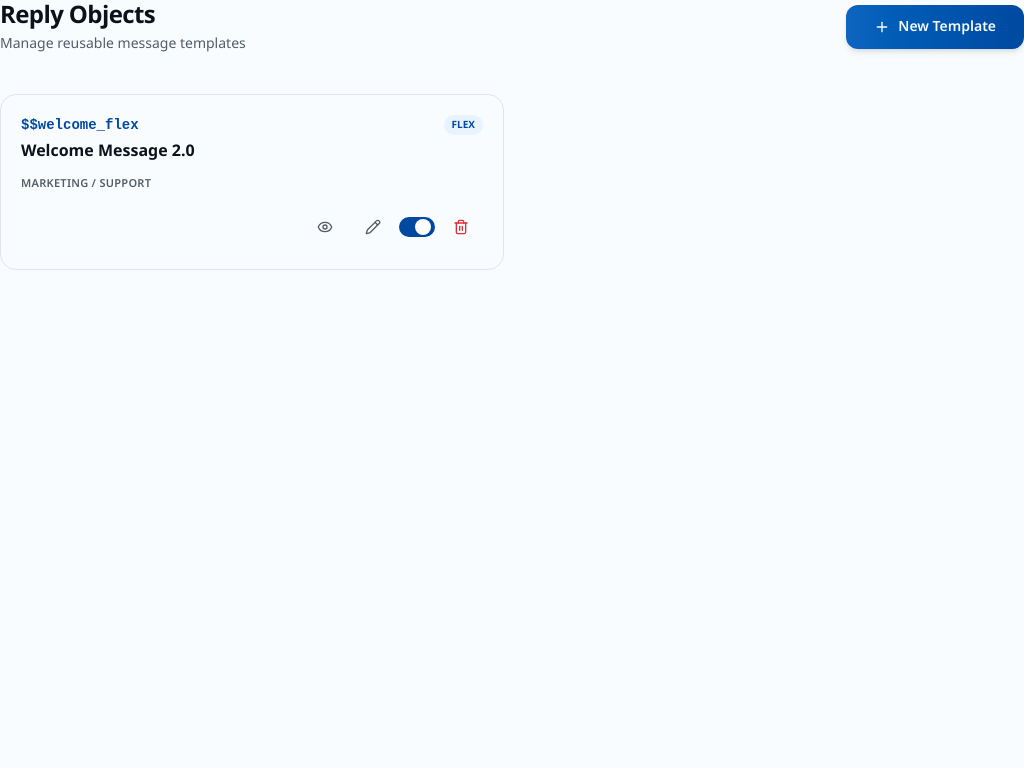
Test: ReplyObjectsClient กริด JSK › ลบแล้ว reload ลิสต์
Check: the text "$$welcome_flex" is shown, box top-left (21, 117), bottom-right (139, 133)
Click the button named "ลบ welcome_flex" at (461, 227), box top-left (439, 205), bottom-right (483, 249)
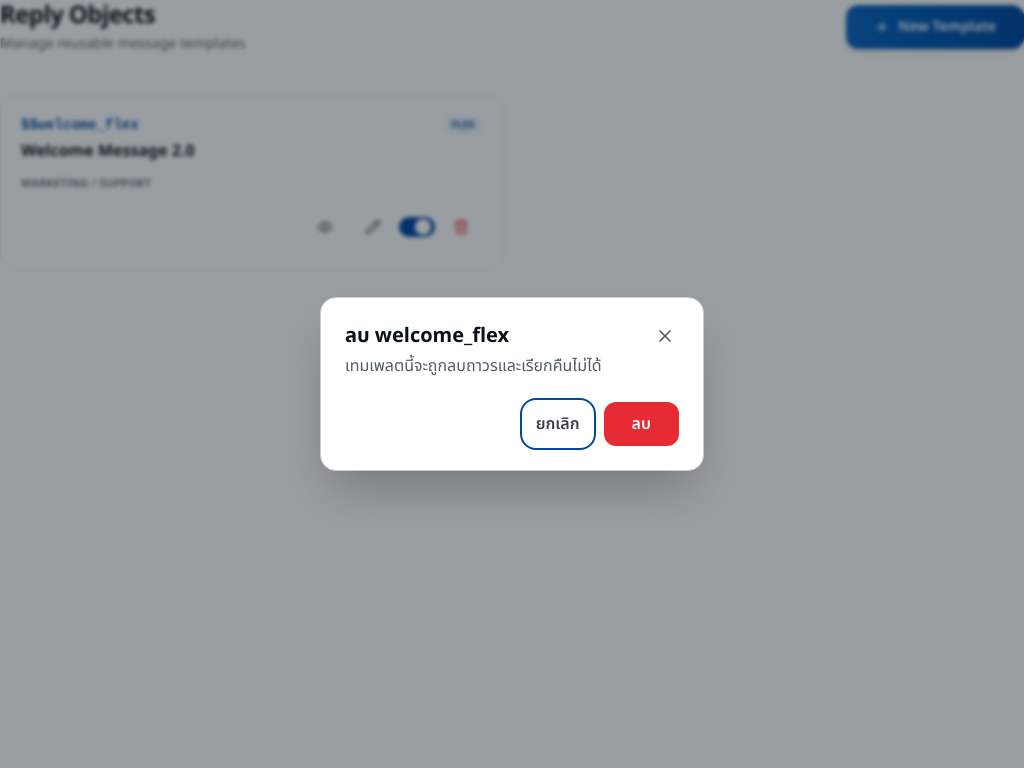
Check: the button "ลบ" is shown
Click the button "ลบ" at (641, 424), box top-left (604, 402), bottom-right (679, 446)
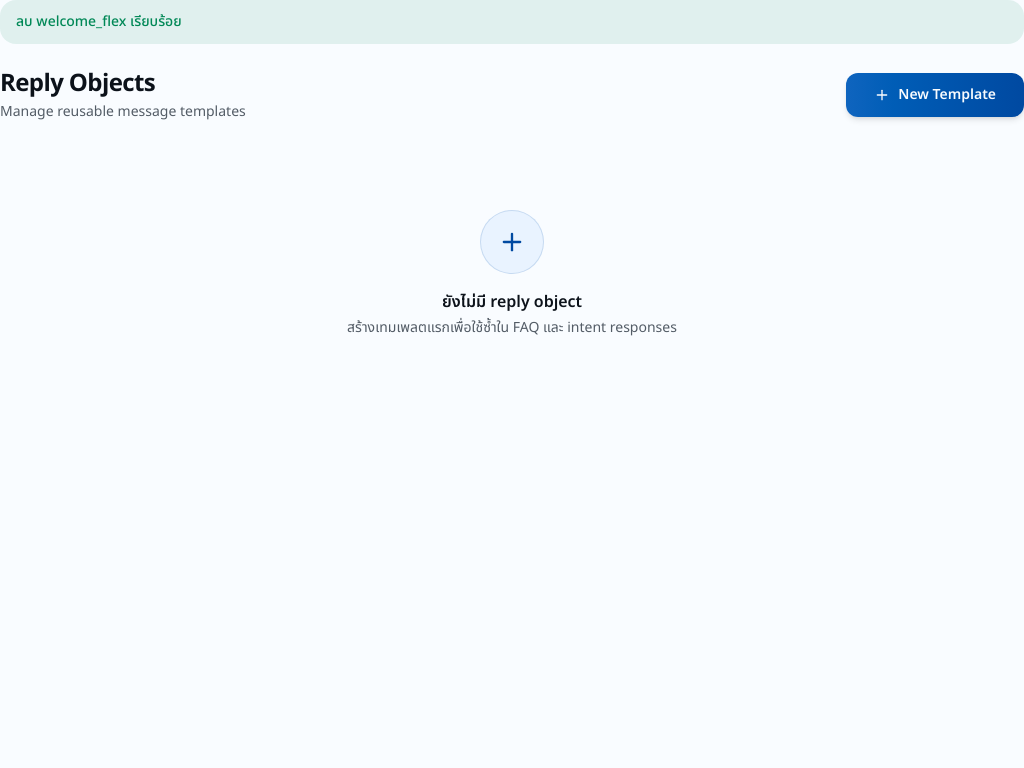
Check: the text "ยังไม่มี reply object" is shown, box top-left (442, 290), bottom-right (582, 314)
